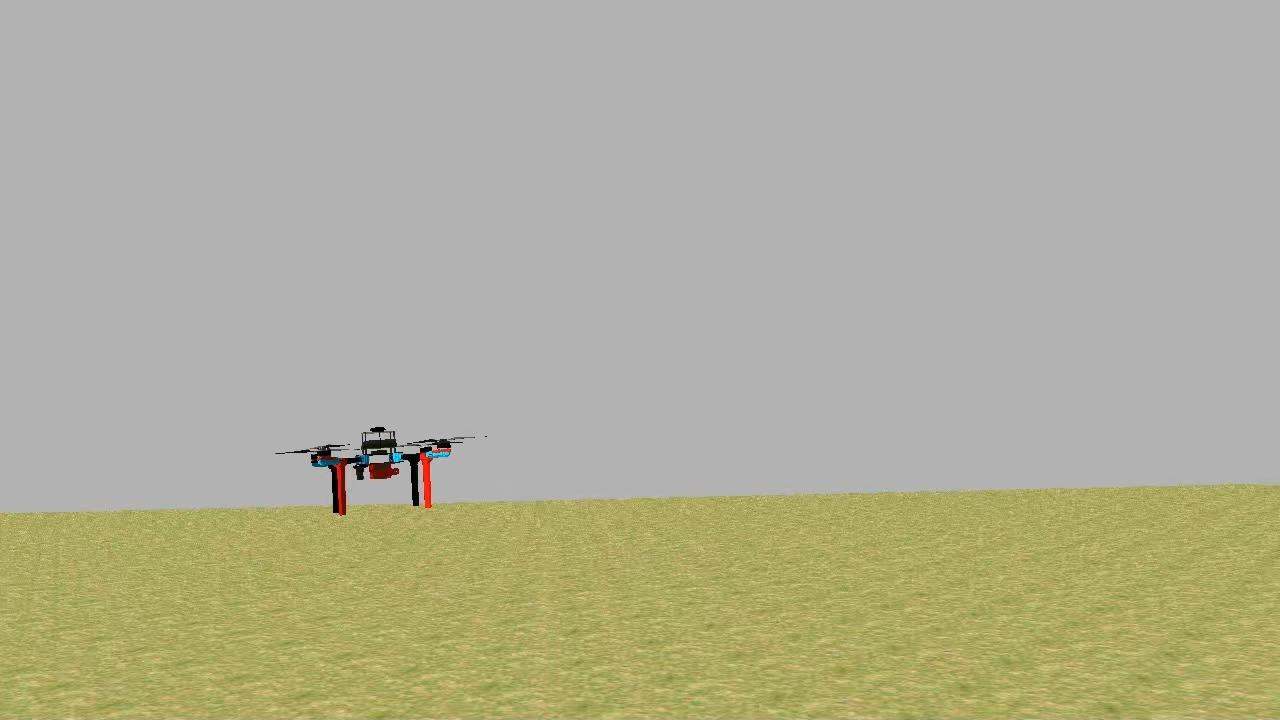UAV: (300, 422, 456, 518)
